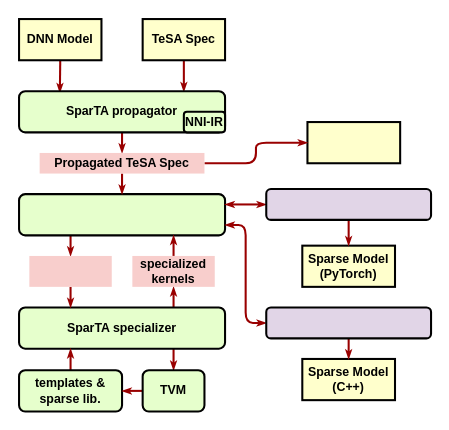
This 449x430 diagram has some shape labels left out. Each missing label, with the centre of its shape:
Compiler Interface: the point at 122,214
PyTorch as parser: the point at 348,203
Rammer: the point at 348,322
Structured-Pruned Model: the point at 353,142
TeSA spec for kernels: the point at 70,270
